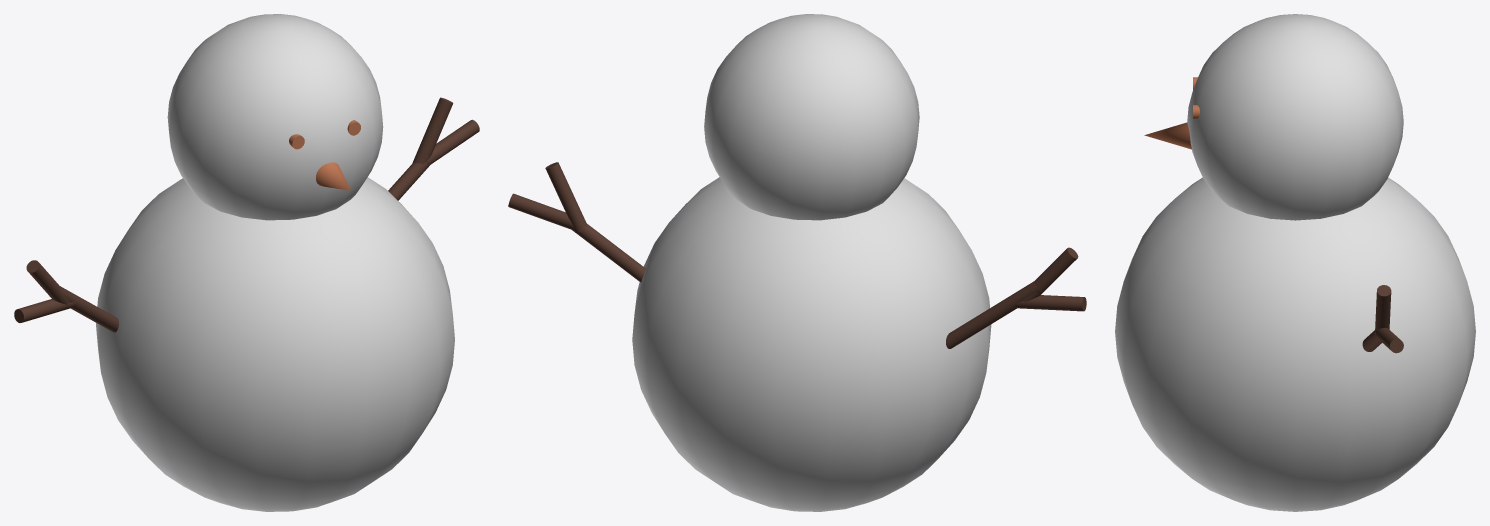
The model's file is Proto_Snowman.fbx.
The picture shows the model from 3 angles, left to right: view 1: azimuth 30°, elevation 25°; view 2: azimuth 150°, elevation 25°; view 3: azimuth 270°, elevation 25°; orthographic projection.
Visible parts, largest first — view 1: Body, Head, Hand2, Hand4, Hand3, Hand6, Hand5, Hand1, Nose; view 2: Body, Head, Hand4, Hand1, Hand2, Hand3, Hand6, Hand5; view 3: Body, Head, Nose, Hand2, Hand3.
Part boxes in pixels (box(x1,y1,x2,y2)): Body: box(96, 177, 454, 511); Head: box(167, 14, 383, 220); Hand2: box(412, 97, 453, 163); Hand4: box(49, 286, 118, 332); Hand3: box(427, 119, 479, 164); Hand6: box(14, 299, 76, 322); Hand5: box(26, 260, 69, 304); Hand1: box(388, 159, 431, 200); Nose: box(316, 162, 350, 190); Body: box(632, 177, 991, 511); Head: box(704, 14, 919, 220); Hand4: box(946, 281, 1042, 348); Hand1: box(571, 224, 645, 282); Hand2: box(545, 162, 586, 232); Hand3: box(508, 193, 573, 229); Hand6: box(1015, 295, 1086, 311); Hand5: box(1023, 247, 1078, 301); Body: box(1115, 177, 1475, 511); Head: box(1187, 14, 1403, 220); Nose: box(1144, 122, 1191, 149); Hand2: box(1375, 285, 1391, 330); Hand3: box(1374, 328, 1403, 353).
Bounding box in the file's own units: 8.28 × 7.2 × 5.
